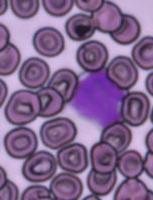M: (70, 68, 128, 130)
